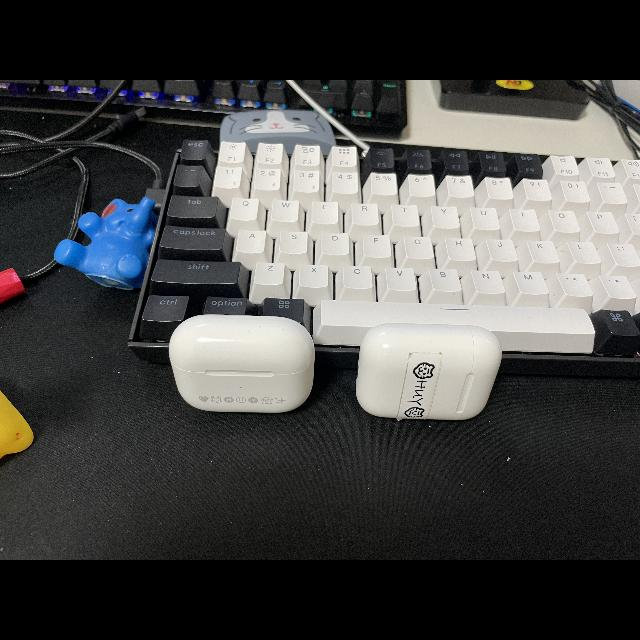airpod2: (355, 321, 503, 424)
airpod3: (164, 308, 318, 420)
